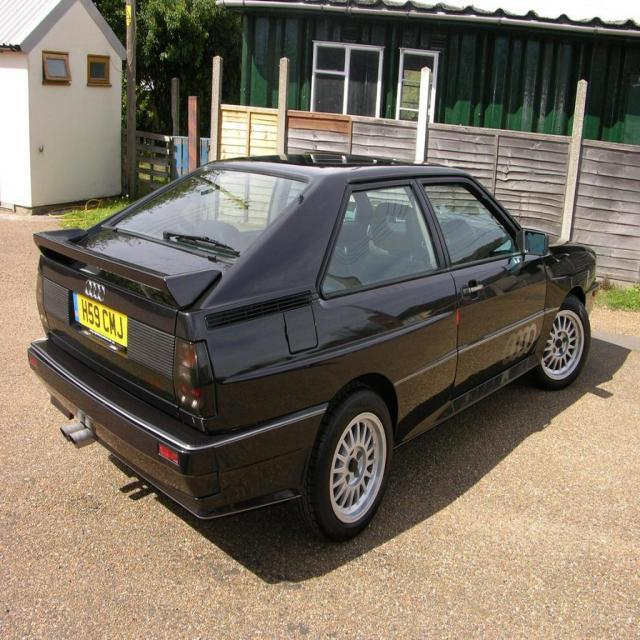truck: (24, 148, 600, 542)
